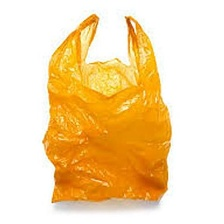plastic_bag: (37, 5, 176, 208)
